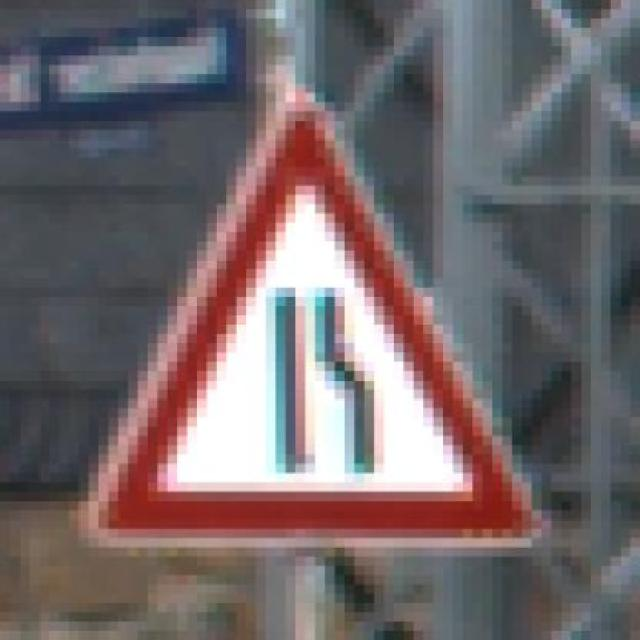-Road narrows on right: (39, 83, 552, 557)
